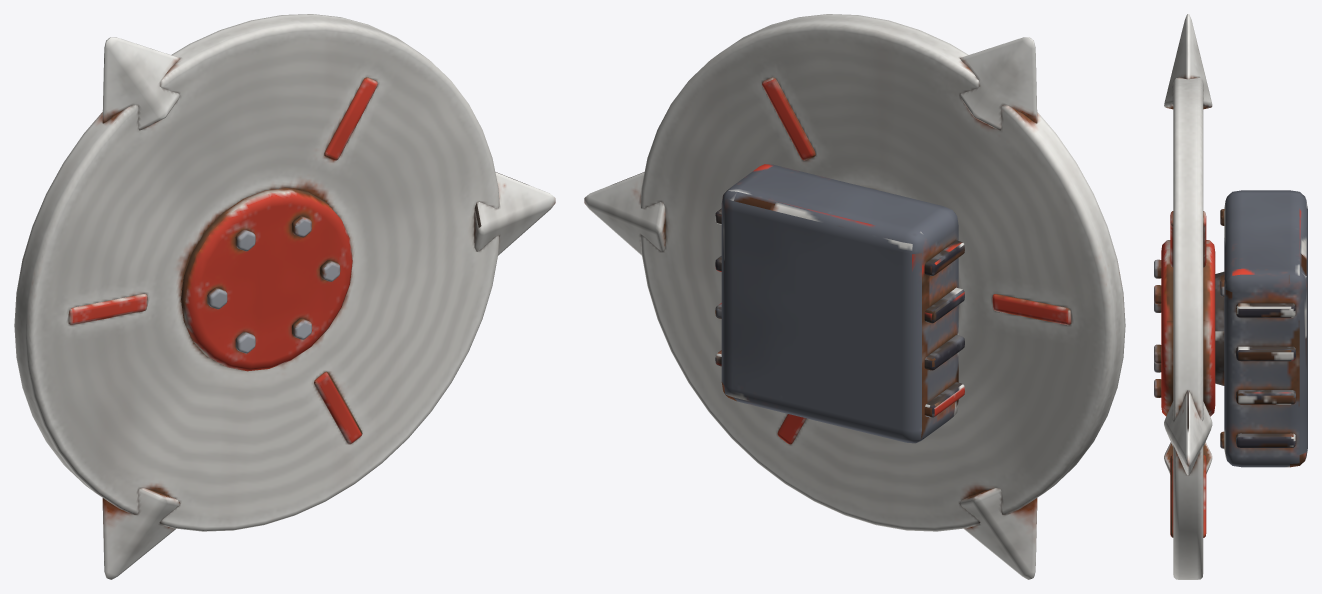
File: spinner.glb
3 renders of one model, left to right at view 1: azimuth 30°, elevation 25°; view 2: azimuth 150°, elevation 25°; view 3: azimuth 270°, elevation 25°, orthographic. The views are drawn at different scales.
Visible parts, largest first — view 1: spin; view 2: spin, body; view 3: body, spin.
Part boxes in pixels (left/top/right/bottom): spin: left=14, top=14, right=555, bottom=579; spin: left=584, top=14, right=1125, bottom=579; body: left=715, top=164, right=964, bottom=443; body: left=1215, top=190, right=1307, bottom=467; spin: left=1154, top=14, right=1215, bottom=579.
Size of the model in its own units: 0.9476 by 0.9183 by 0.2572.
Materials: 1 (1 with a texture image).
